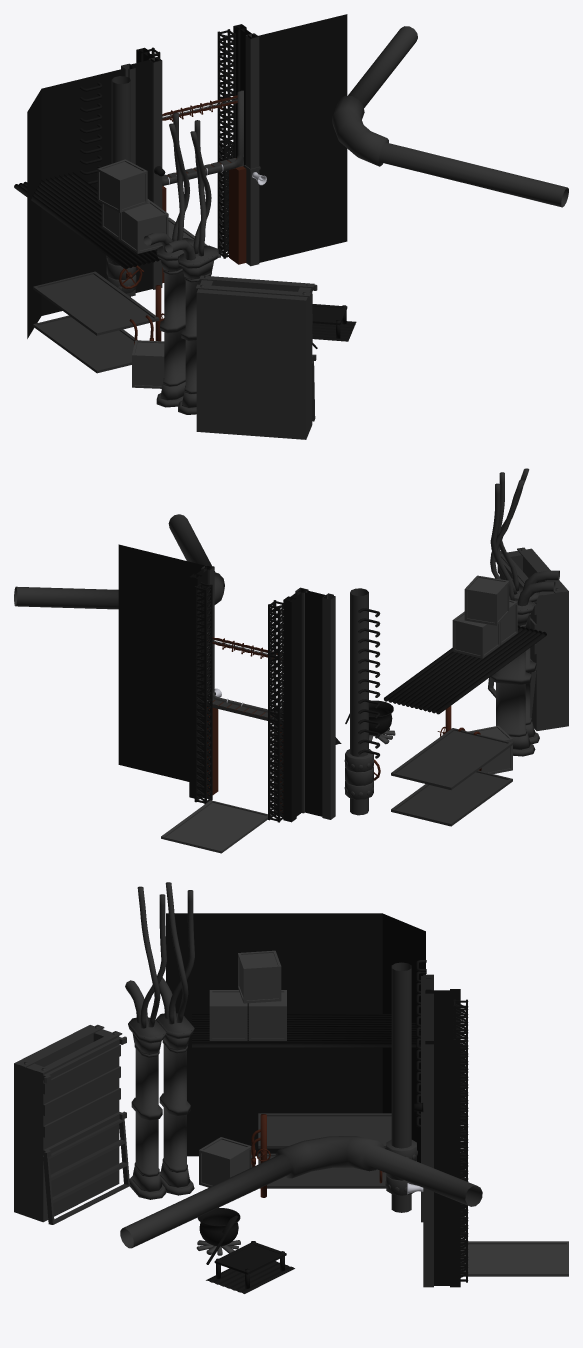
Rendered from DrillTunnel_03.FBX.
3 renders of one model, top to bottom at view 1: azimuth 30°, elevation 25°; view 2: azimuth 150°, elevation 25°; view 3: azimuth 270°, elevation 25°, orthographic. The views are drawn at different scales.
Visible parts, largest first — view 1: DrillTunnel_03; view 2: DrillTunnel_03; view 3: DrillTunnel_03.
Boxes of the visible parts, bbox=[...] form: DrillTunnel_03: bbox=[14, 14, 568, 439]; DrillTunnel_03: bbox=[14, 468, 568, 853]; DrillTunnel_03: bbox=[14, 882, 568, 1293].
Size of the model in its own units: 8620 by 9030 by 5330.
